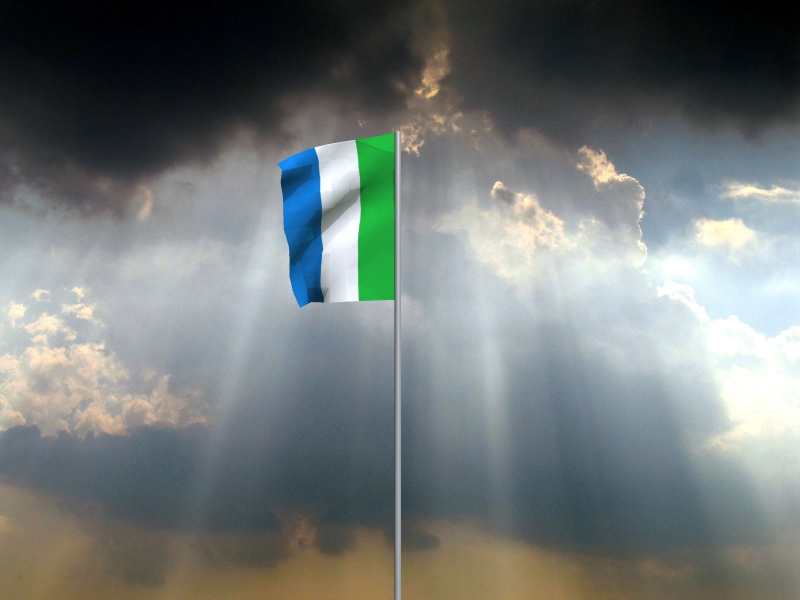sl: (276, 134, 394, 309)
